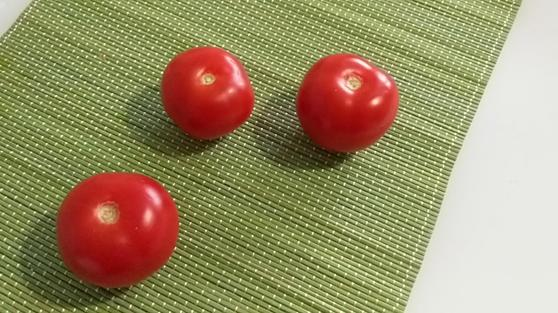tomato: (57, 176, 181, 292), (295, 49, 399, 158), (160, 45, 256, 142)
